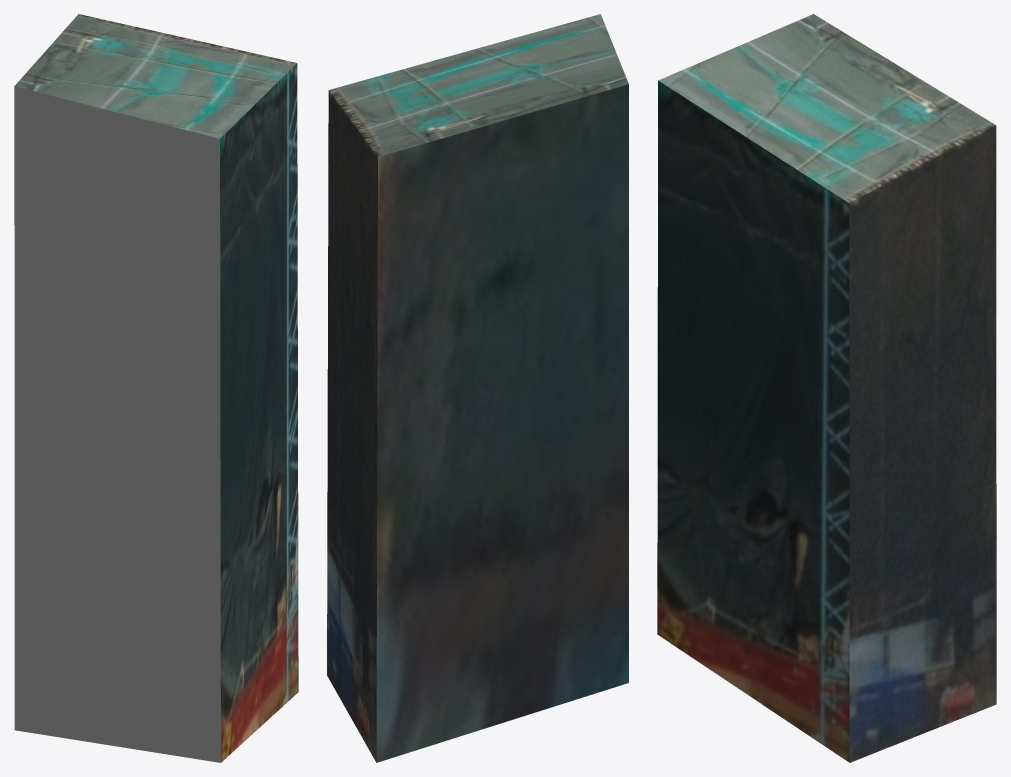
File: input.glb
The picture shows the model from 3 angles, left to right: view 1: azimuth 30°, elevation 25°; view 2: azimuth 150°, elevation 25°; view 3: azimuth 270°, elevation 25°; orthographic projection. The views are drawn at different scales.
Visible parts, largest first — view 1: B338831602701063A0; view 2: B338831602701063A0; view 3: B338831602701063A0.
Boxes of the visible parts, x1,y1,x2,y2 form: B338831602701063A0: (14, 14, 298, 762); B338831602701063A0: (327, 14, 628, 762); B338831602701063A0: (657, 14, 996, 762).
Size of the model in its own units: 7.17 by 15.64 by 7.79.
1 material, 1 textured.
